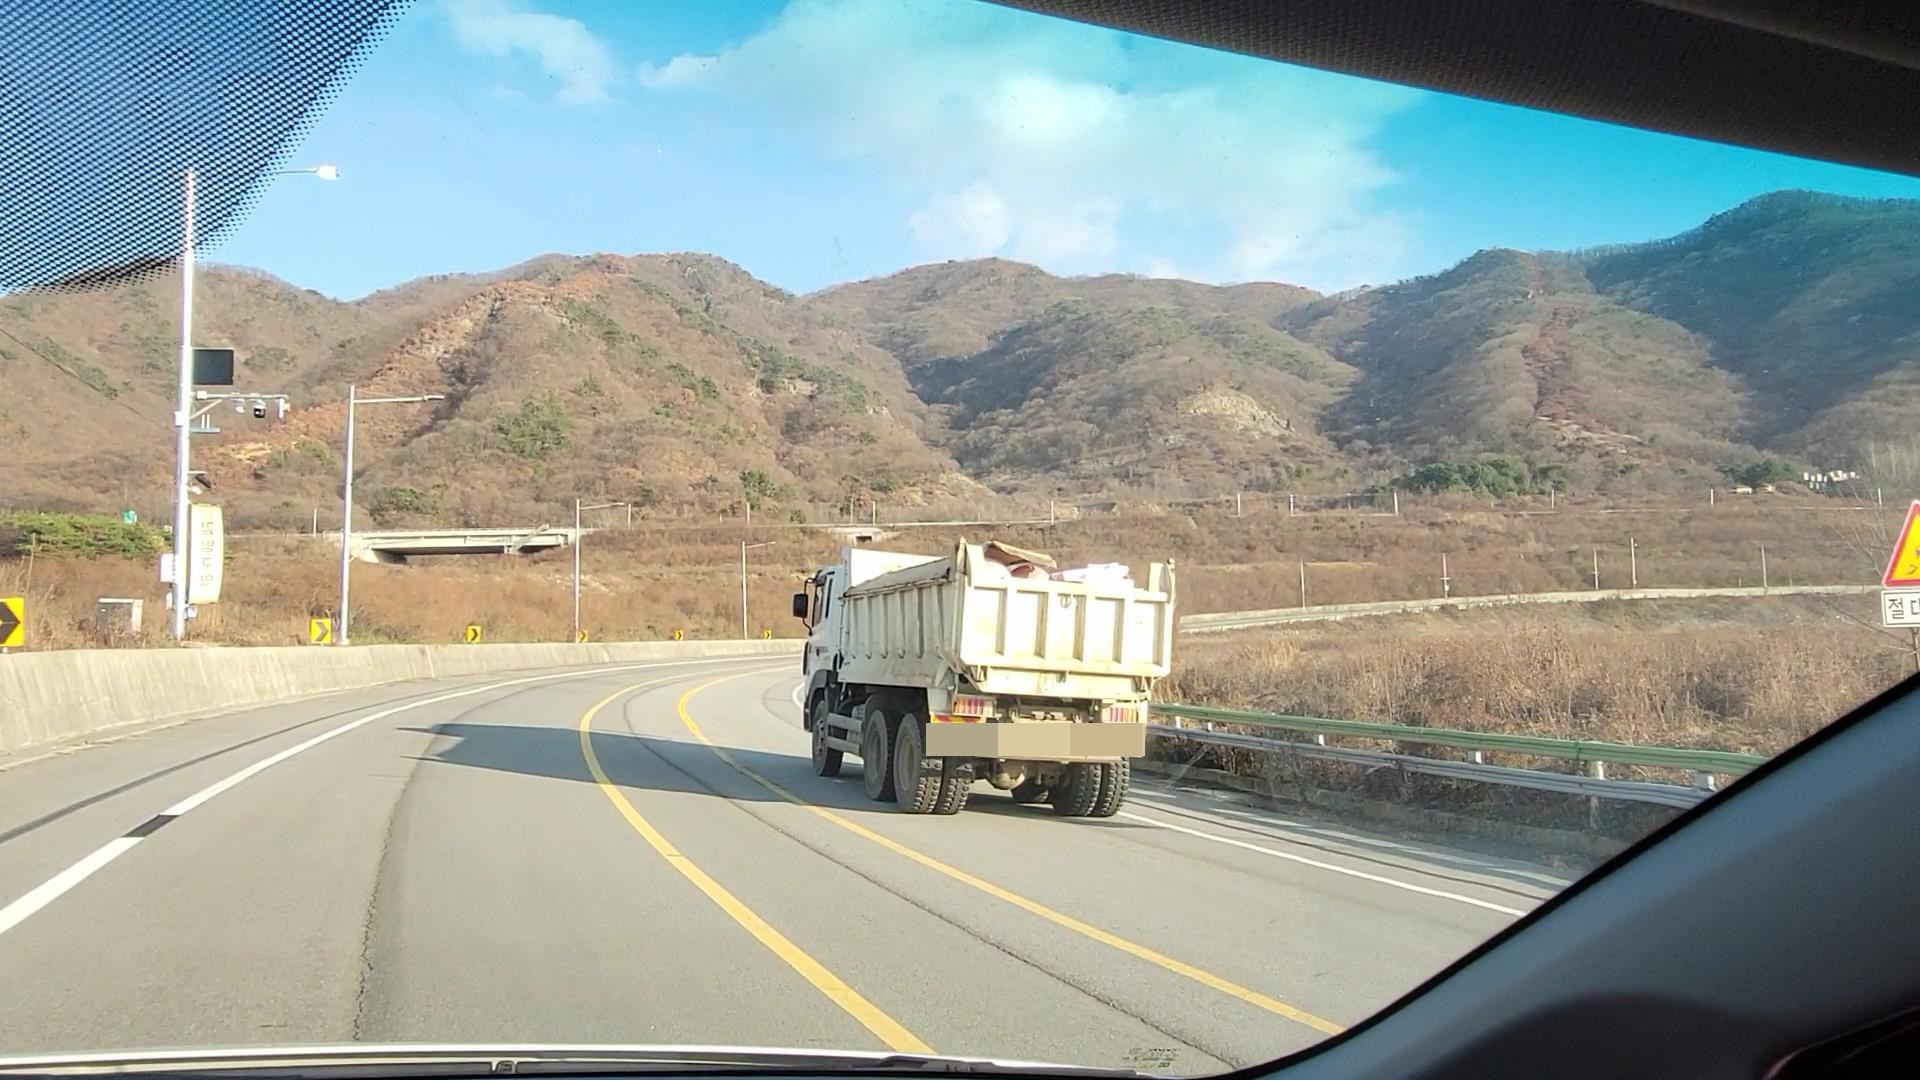불법차량: (791, 546, 1176, 818)
